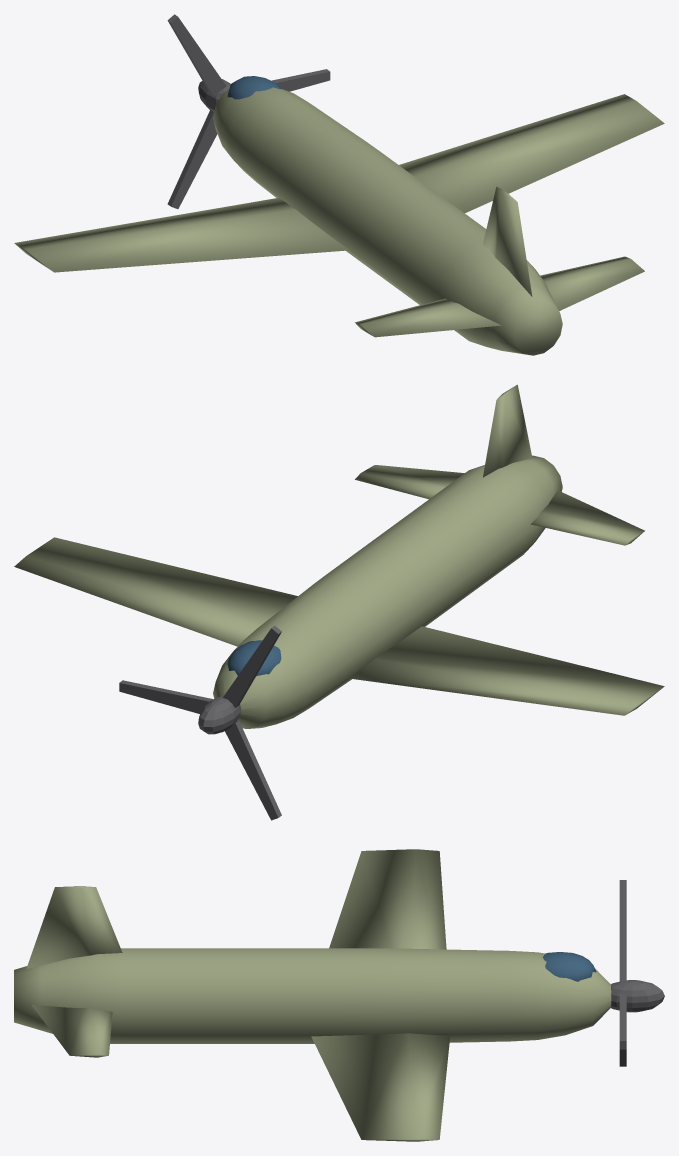
The picture shows the model from 3 angles, top to bottom: view 1: azimuth 30°, elevation 25°; view 2: azimuth 150°, elevation 25°; view 3: azimuth 270°, elevation 25°; orthographic projection. The views are drawn at different scales.
Visible parts, largest first — view 1: Body, Detail, Canopy; view 2: Body, Detail, Canopy; view 3: Body, Detail, Canopy.
Boxes of the visible parts, bbox=[...] form: Body: bbox=[14, 87, 664, 355]; Detail: bbox=[167, 14, 330, 208]; Canopy: bbox=[227, 76, 280, 99]; Body: bbox=[14, 384, 664, 728]; Detail: bbox=[119, 625, 281, 820]; Canopy: bbox=[227, 640, 281, 676]; Body: bbox=[14, 849, 611, 1141]; Detail: bbox=[610, 880, 664, 1066]; Canopy: bbox=[543, 952, 596, 981].
Size of the model in its own units: 1240 by 405 by 1180.
